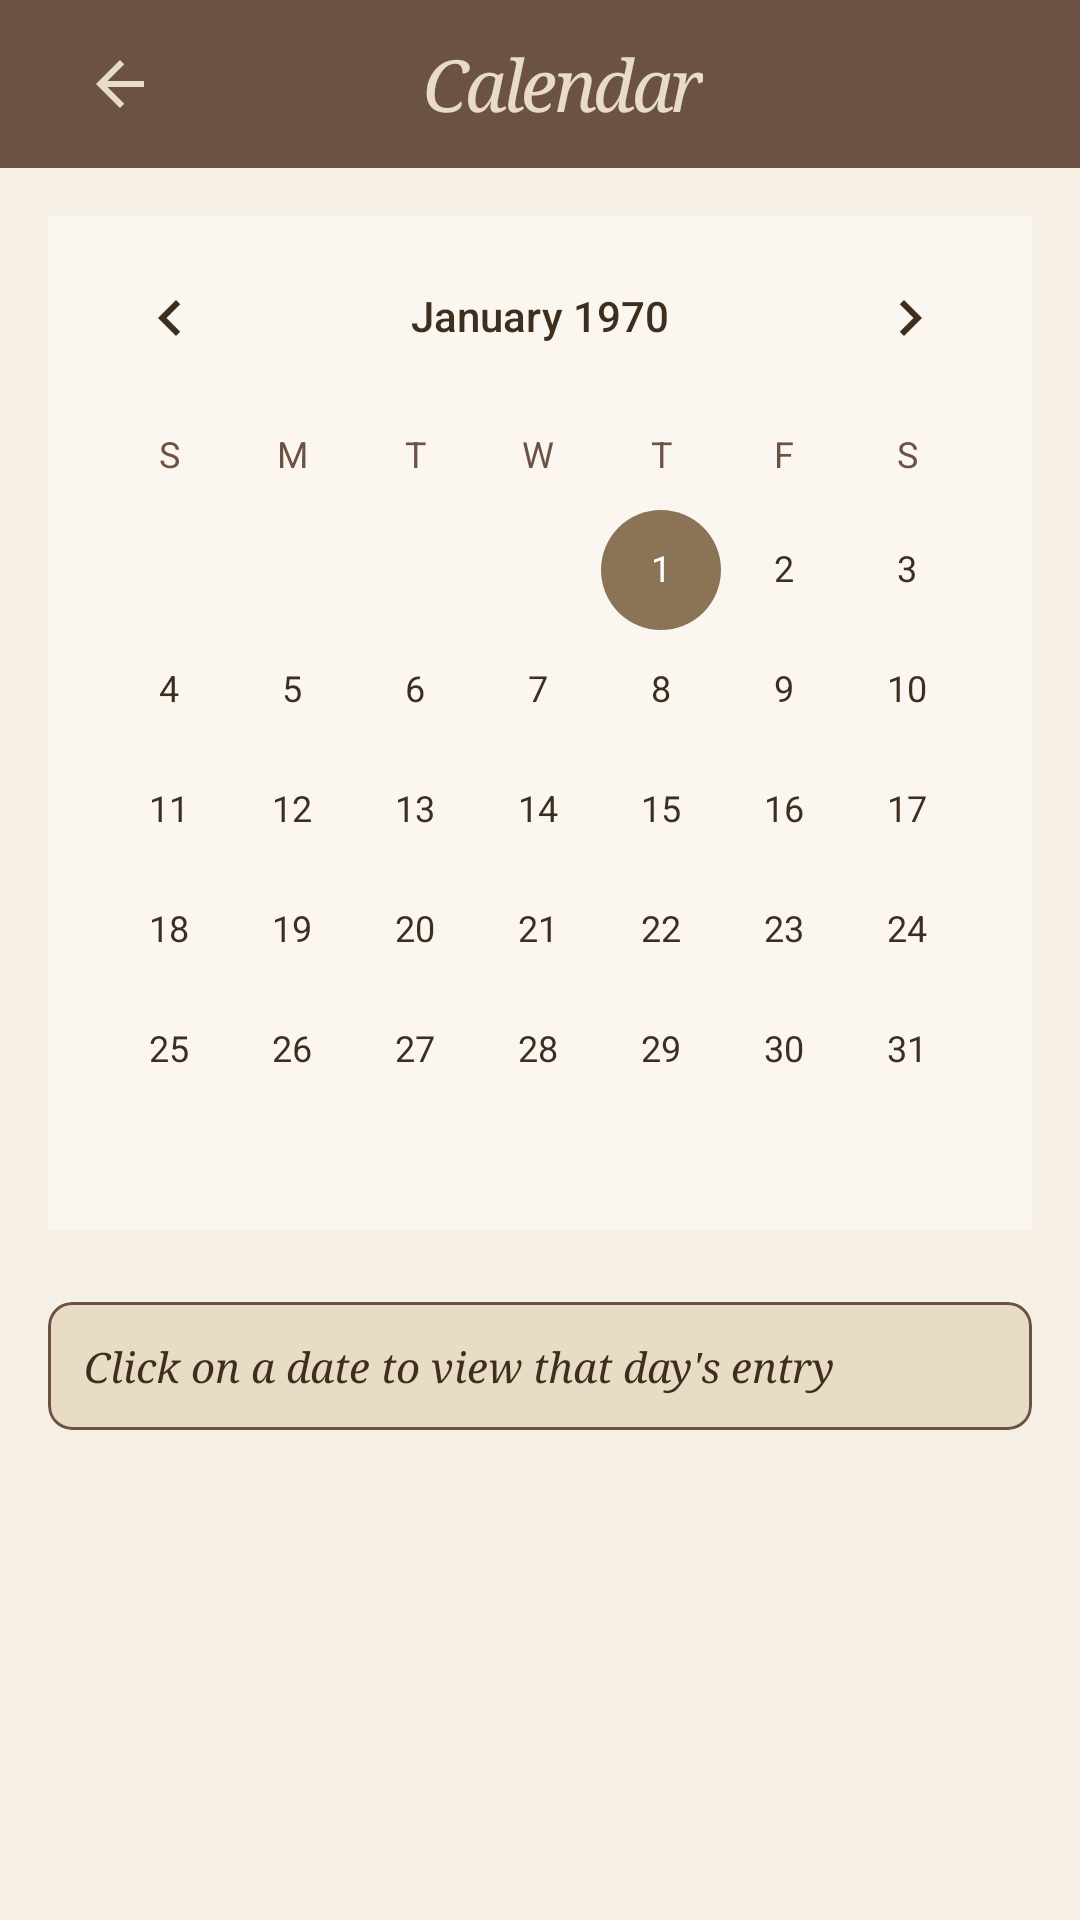

Where icons sit on this 1080×1920 app screen, as [x1,y1,x2,y2]:
Back: [96,60,144,108]
